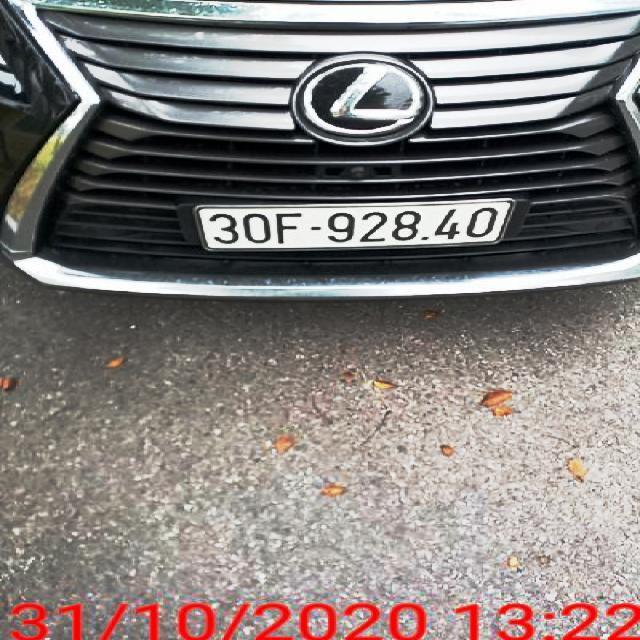license_plate: (198, 203, 517, 249)
